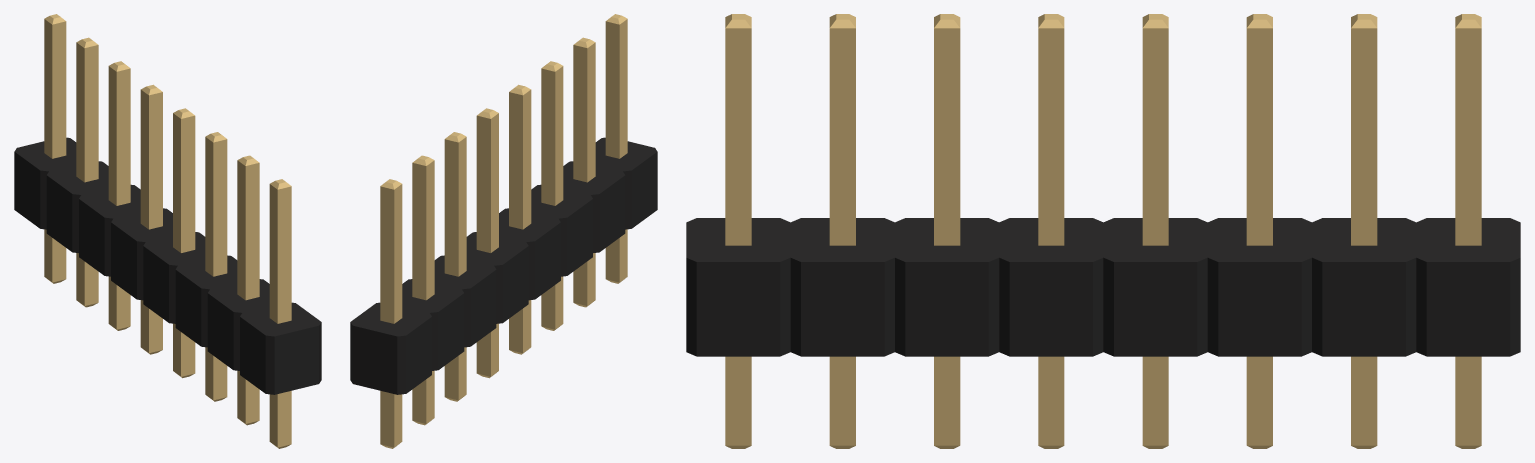
File: Connector_PinHeader_2.54mm__PinHeader_1x08_P2.54mm_Vertical.glb
3 views of the same model, side by side, from view 1: azimuth 30°, elevation 25°; view 2: azimuth 150°, elevation 25°; view 3: azimuth 270°, elevation 25° (orthographic). The views are drawn at different scales.
Visible parts, largest first — view 1: PinHeader_1x08_P254mm_Vertical; view 2: PinHeader_1x08_P254mm_Vertical; view 3: PinHeader_1x08_P254mm_Vertical.
Boxes of the visible parts, box(x1,y1,x2,y2) form: PinHeader_1x08_P254mm_Vertical: box(14, 14, 321, 448); PinHeader_1x08_P254mm_Vertical: box(350, 14, 657, 448); PinHeader_1x08_P254mm_Vertical: box(686, 14, 1520, 448).
Size of the model in its own units: 0.00254 by 0.0115 by 0.0203.
